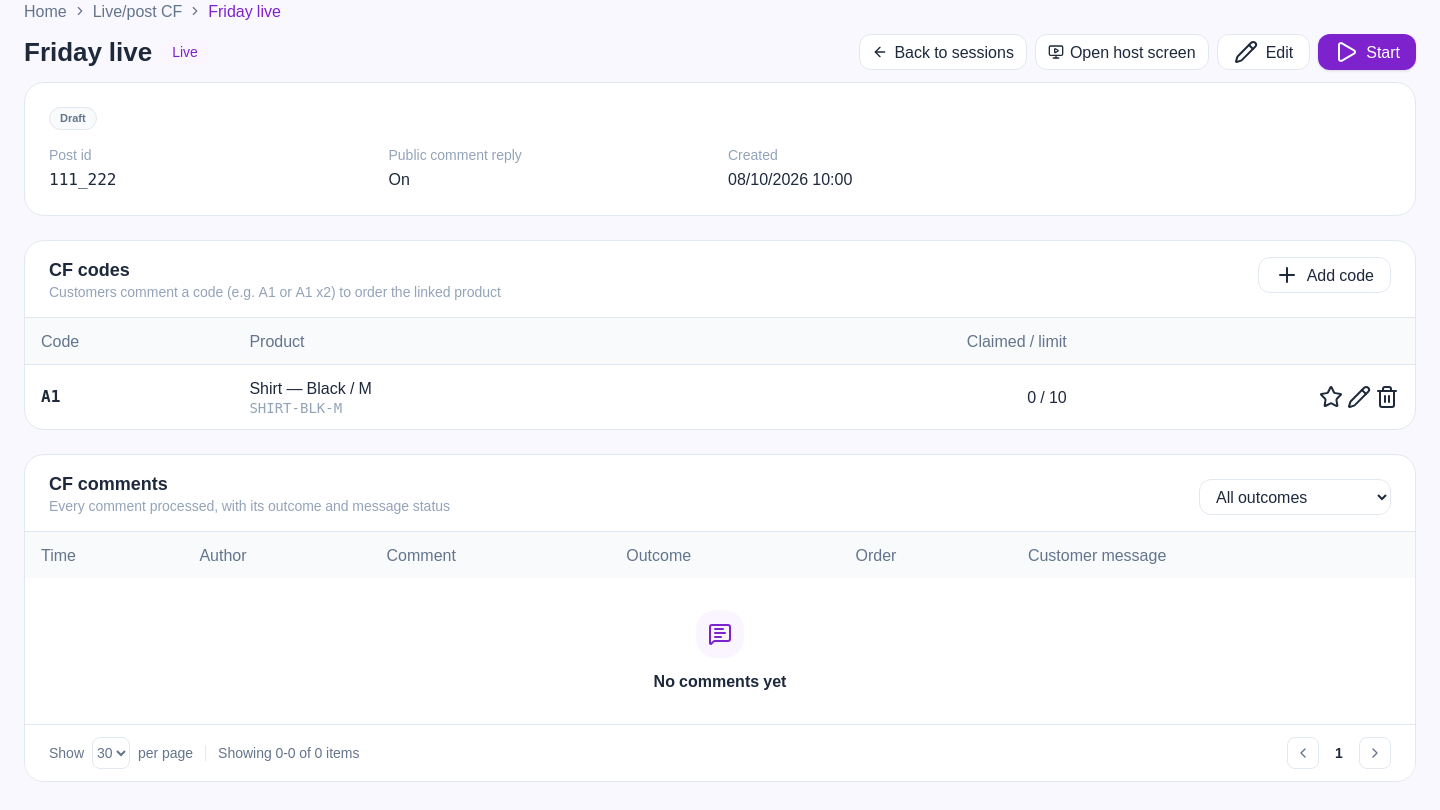
Scenario: SessionDetail › ແກ້ໄຂ ເປີດ dialog ທີ່ມີຄ່າເດີມ
Click the button "Edit": (1263, 52) [1217,34,1310,70]
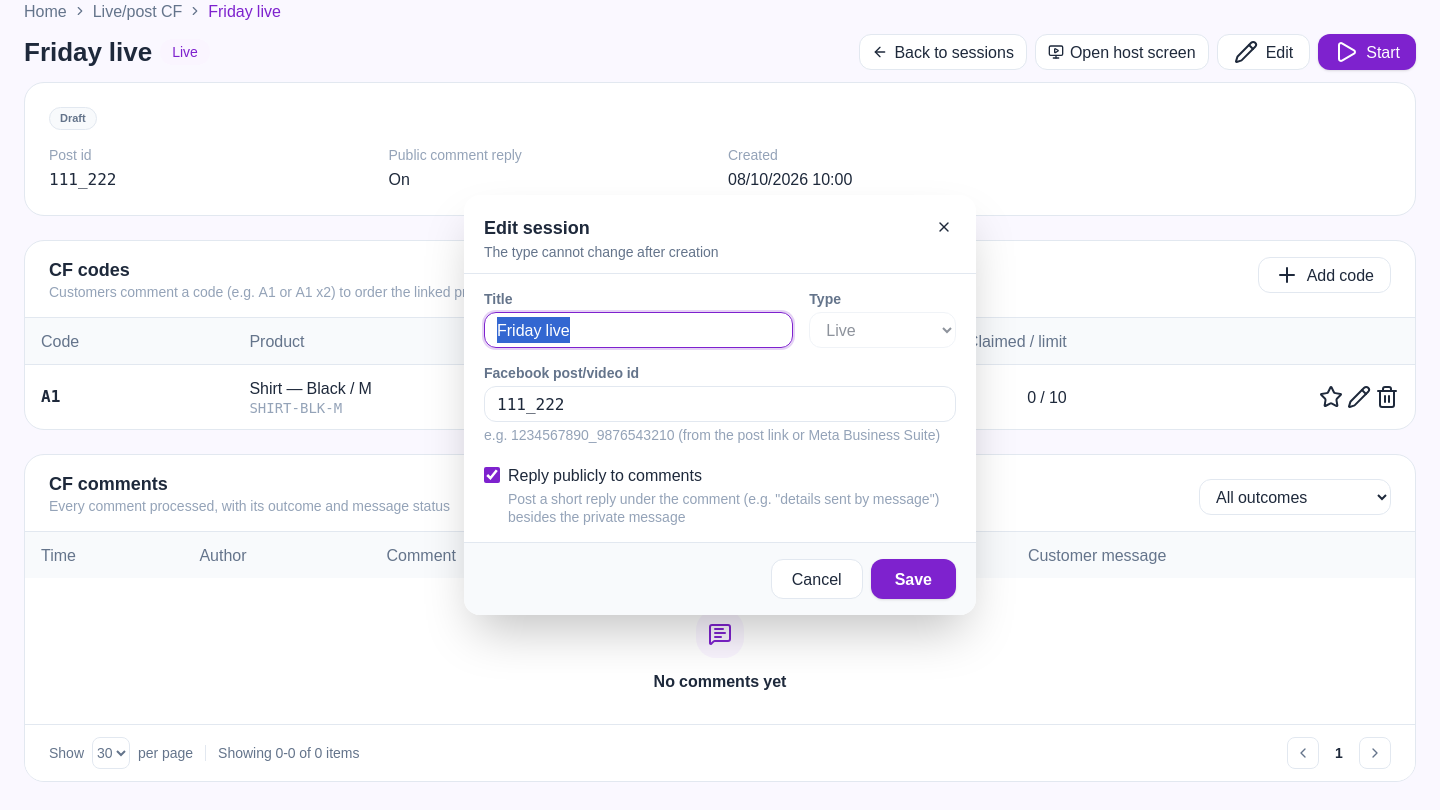
Expected: the dialog "Edit session" is shown, [464,195,976,615]
Expected: the field labelled "Title" holds "Friday live", [484,312,793,348]
